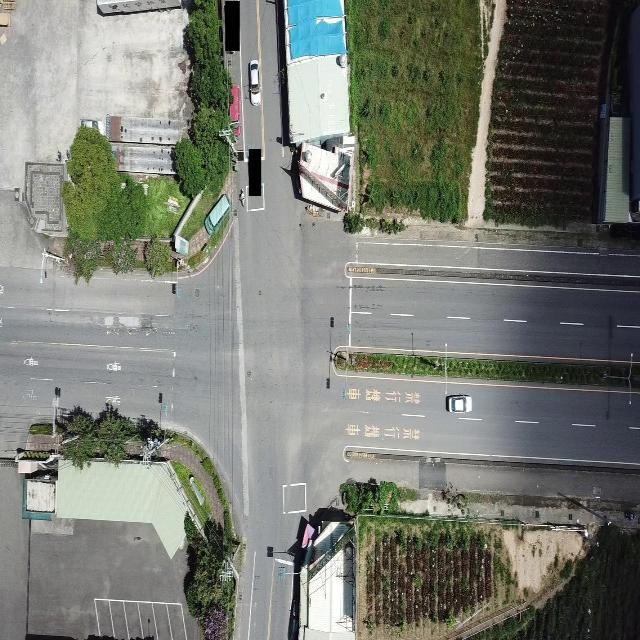bike: (239, 188, 245, 206)
car: (203, 193, 230, 236), (226, 80, 242, 138), (248, 56, 264, 109), (446, 391, 472, 416)
